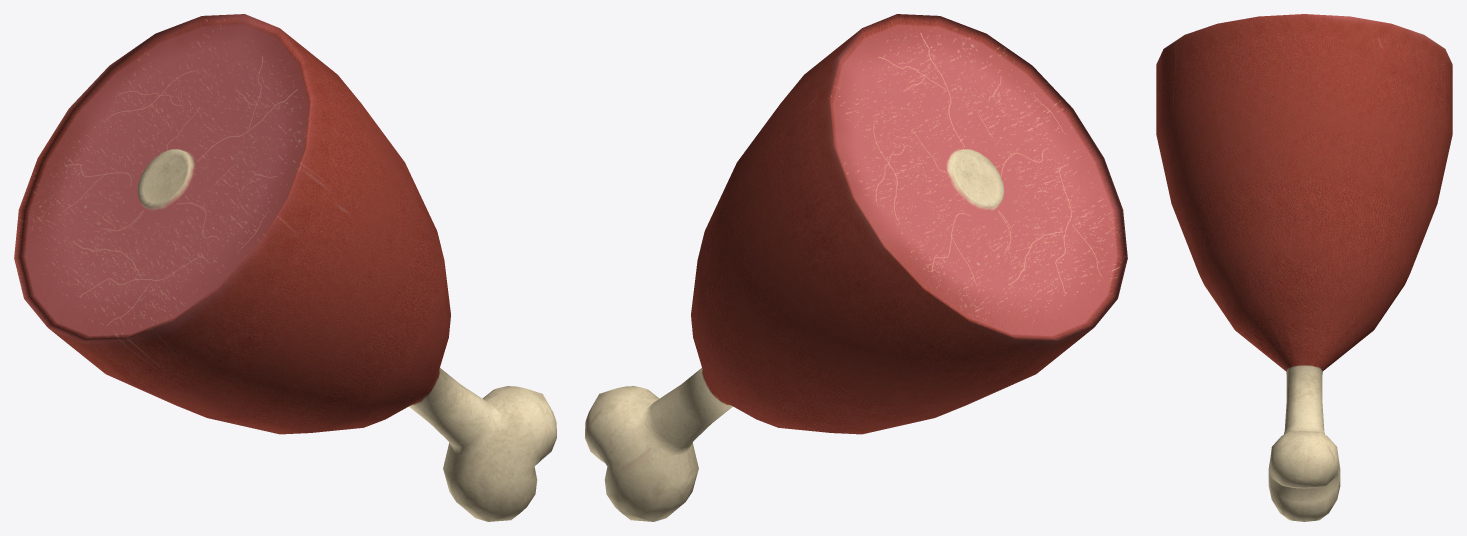
File: meat.fbx
The picture shows the model from 3 angles, left to right: view 1: azimuth 30°, elevation 25°; view 2: azimuth 150°, elevation 25°; view 3: azimuth 270°, elevation 25°; orthographic projection. The views are drawn at different scales.
Visible parts, largest first — view 1: Ham; view 2: Ham; view 3: Ham.
Boxes of the visible parts, x1,y1,x2,y2 form: Ham: [14, 14, 556, 521]; Ham: [585, 14, 1127, 521]; Ham: [1156, 14, 1452, 521].
Size of the model in its own units: 573 by 589 by 373.
1 material, 1 textured.
